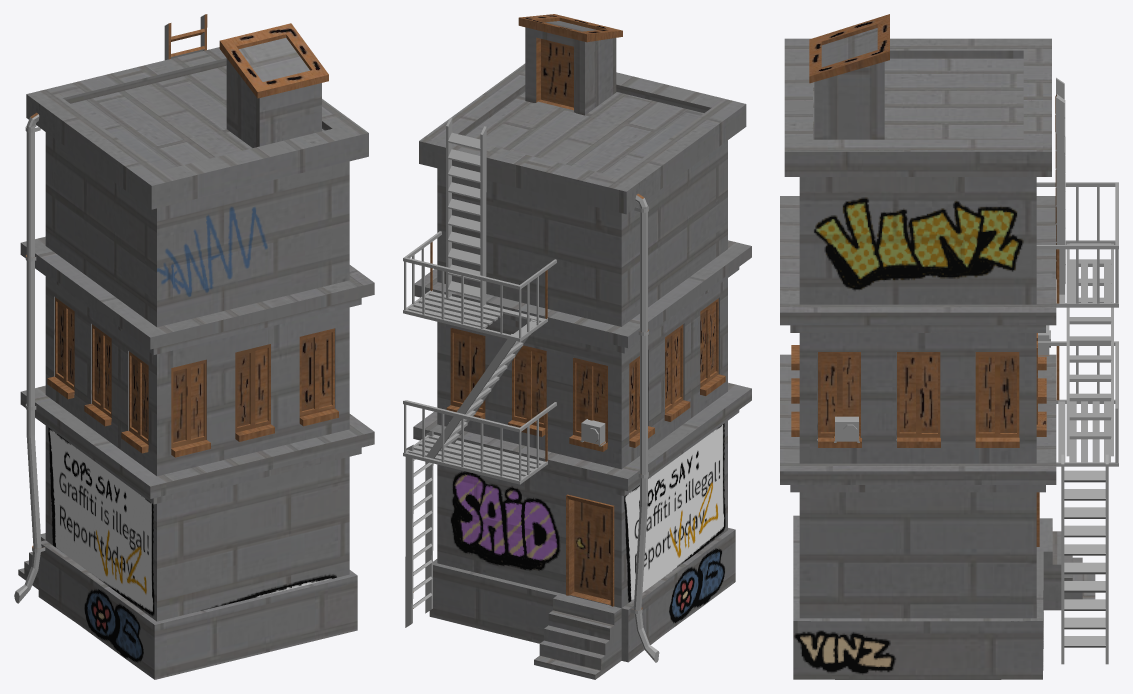
The model's file is type1building_1.fbx.
3 renders of one model, left to right at view 1: azimuth 30°, elevation 25°; view 2: azimuth 150°, elevation 25°; view 3: azimuth 270°, elevation 25°, orthographic. The views are drawn at different scales.
Parts seen in each view (by area): view 1: AP.003; view 2: AP.003; view 3: AP.003.
Boxes of the visible parts, x1,y1,x2,y2 form: AP.003: [14, 14, 374, 679]; AP.003: [403, 14, 751, 679]; AP.003: [780, 14, 1118, 679].
Bounding box in the file's own units: 1146 × 2629 × 1308.
